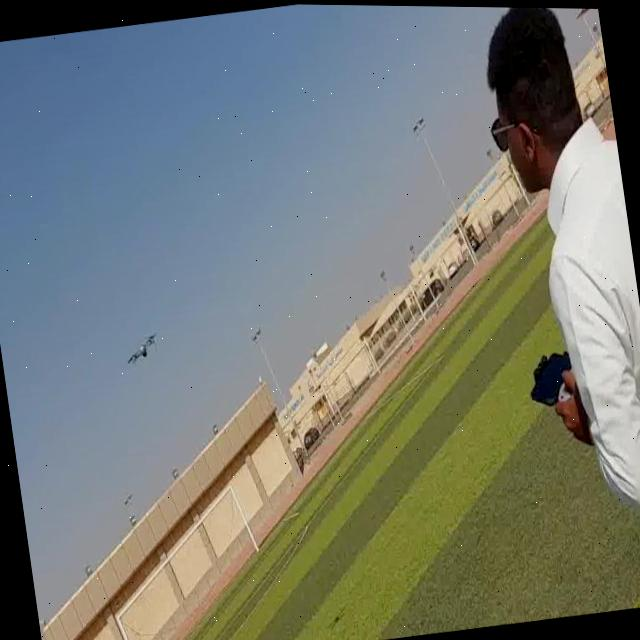drone: (120, 325, 166, 372)
